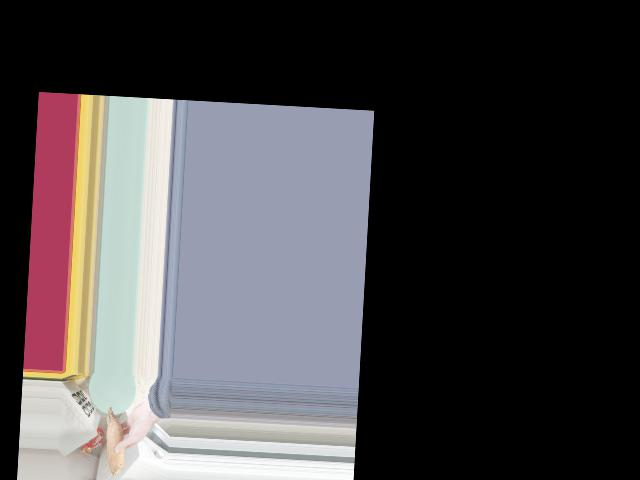sweet_potato: (102, 402, 124, 478)
